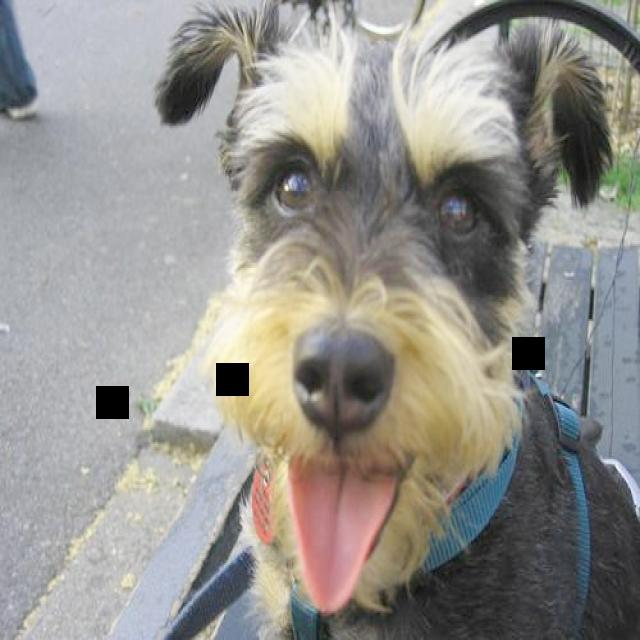adult_dog: (153, 5, 640, 636)
